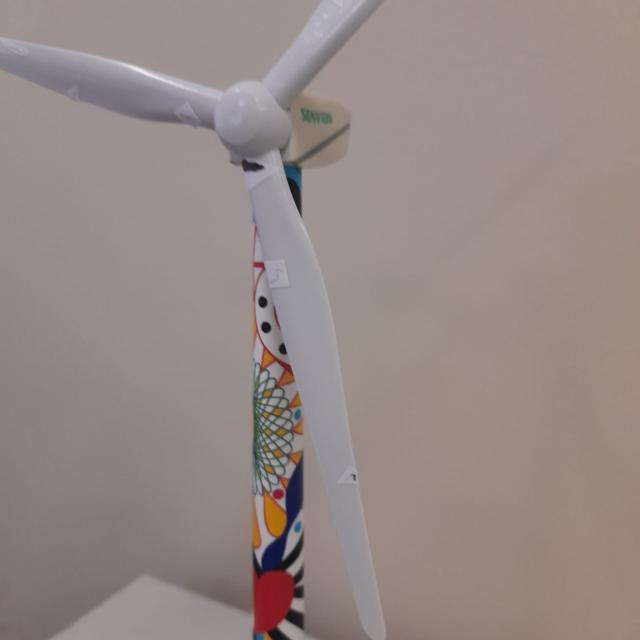dano: (238, 154, 268, 180), (1, 38, 26, 58), (268, 262, 286, 289), (176, 110, 200, 128), (346, 467, 362, 487), (66, 88, 80, 106)
